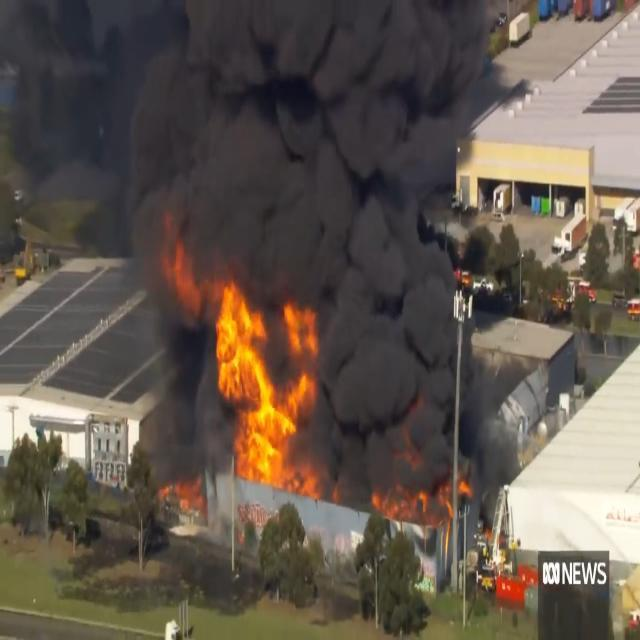fire: (201, 266, 325, 489), (164, 239, 208, 315)
